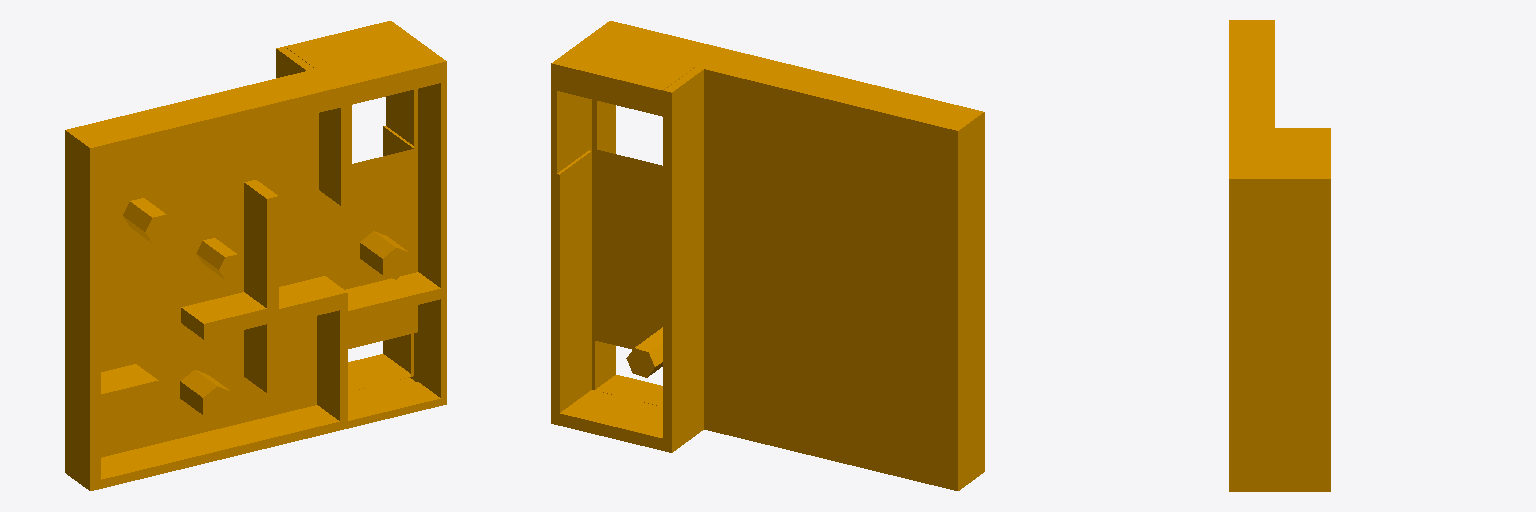
URDF robot description (cubicles_env):
<?xml version="1.0"?>
<robot name="cubicles_env">
  <link name="base_link">
    <visual>
      <geometry>
        <mesh filename="package://hpp-ompl-benchmark/mesh/cubicles_env.stl"/>
      </geometry>
    </visual>
  </link>
</robot>

--- Render facts (derived) ---
3 views of the same robot in one strip: view 1: azimuth 30°, elevation 25°; view 2: azimuth 150°, elevation 25°; view 3: azimuth 270°, elevation 25° (orthographic).
Model cubicles_env with 1 links and 0 joints (none), rooted at base_link, posed all joints at 0.
Links seen in each view (by area): view 1: base_link; view 2: base_link; view 3: base_link.
Boxes of the visible links, x1,y1,x2,y2 form: base_link: [65, 21, 446, 490]; base_link: [551, 21, 984, 490]; base_link: [1229, 20, 1330, 491].
Size in the robot's own frame: 21.04 by 5.71 by 19.35 metres.
1 mesh visuals loaded from 1 distinct referenced files (1 binary STL).